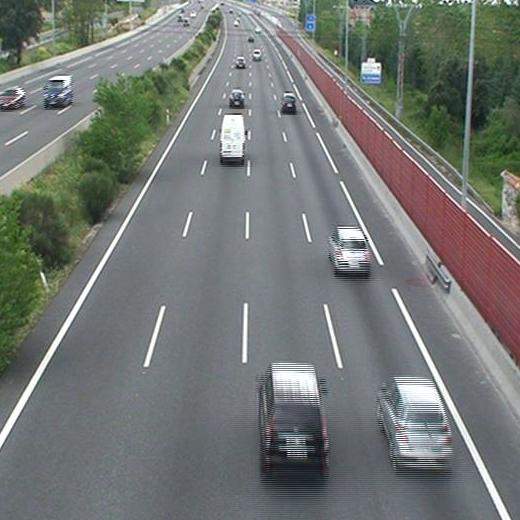car: (259, 364, 326, 469), (379, 379, 450, 466), (329, 226, 370, 274), (282, 94, 297, 111), (229, 90, 244, 106), (235, 58, 246, 69), (252, 50, 262, 61)
van: (220, 116, 245, 160)
